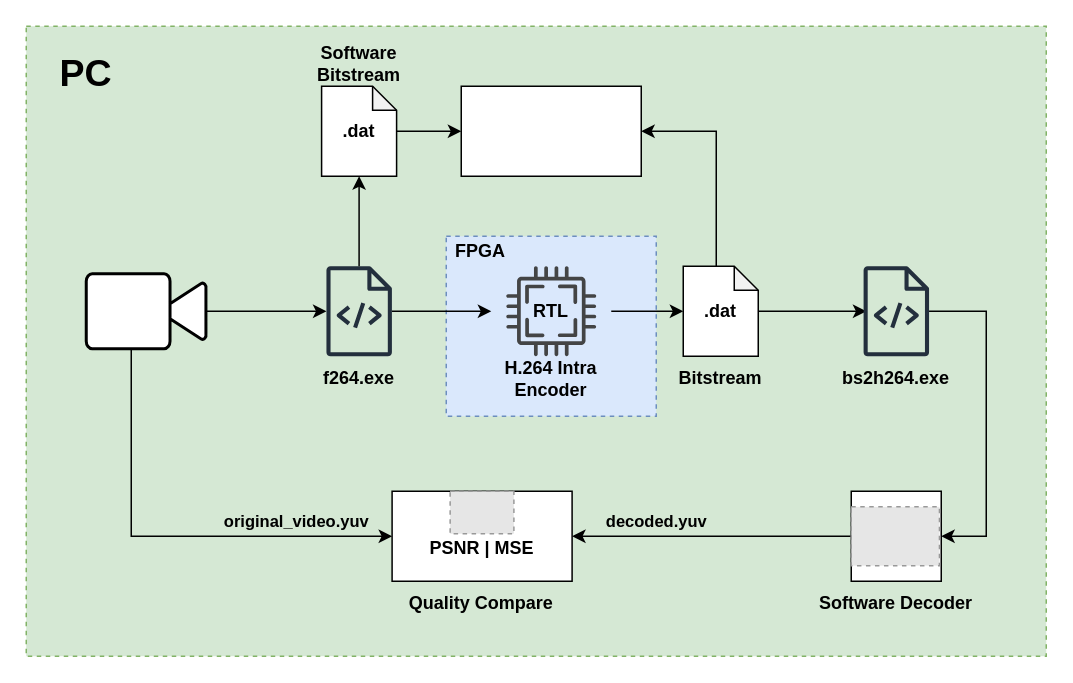
This 1073x683 diagram has some shape labels left out. Grey dashed boxes stand in for pictures. Each missing label, with the centre of its shape:
Bitstream Compare: the point at 550,130
Video YUV 4:2:0: the point at 145,311
